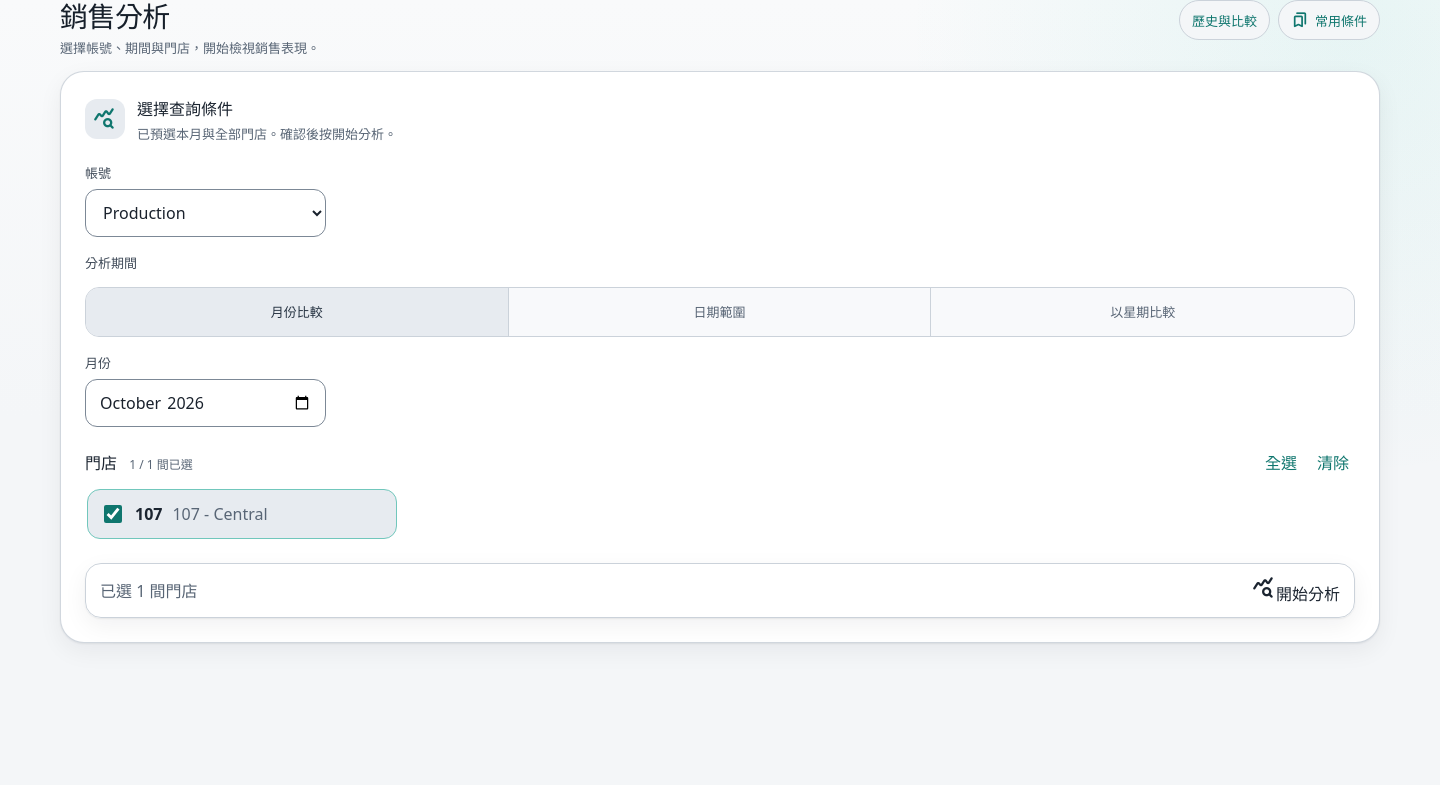
Test: saved analysis conditions › can discard staged conditions and keep the previous report and filters
Expected: the text "107 - Central" is shown, x1=172 y1=503 x2=268 y2=525
What coordinates should you click on to do the following:
click the text "開始分析"
I would click on:
 (1296, 590)
Its box is x1=1252 y1=576 x2=1340 y2=605.
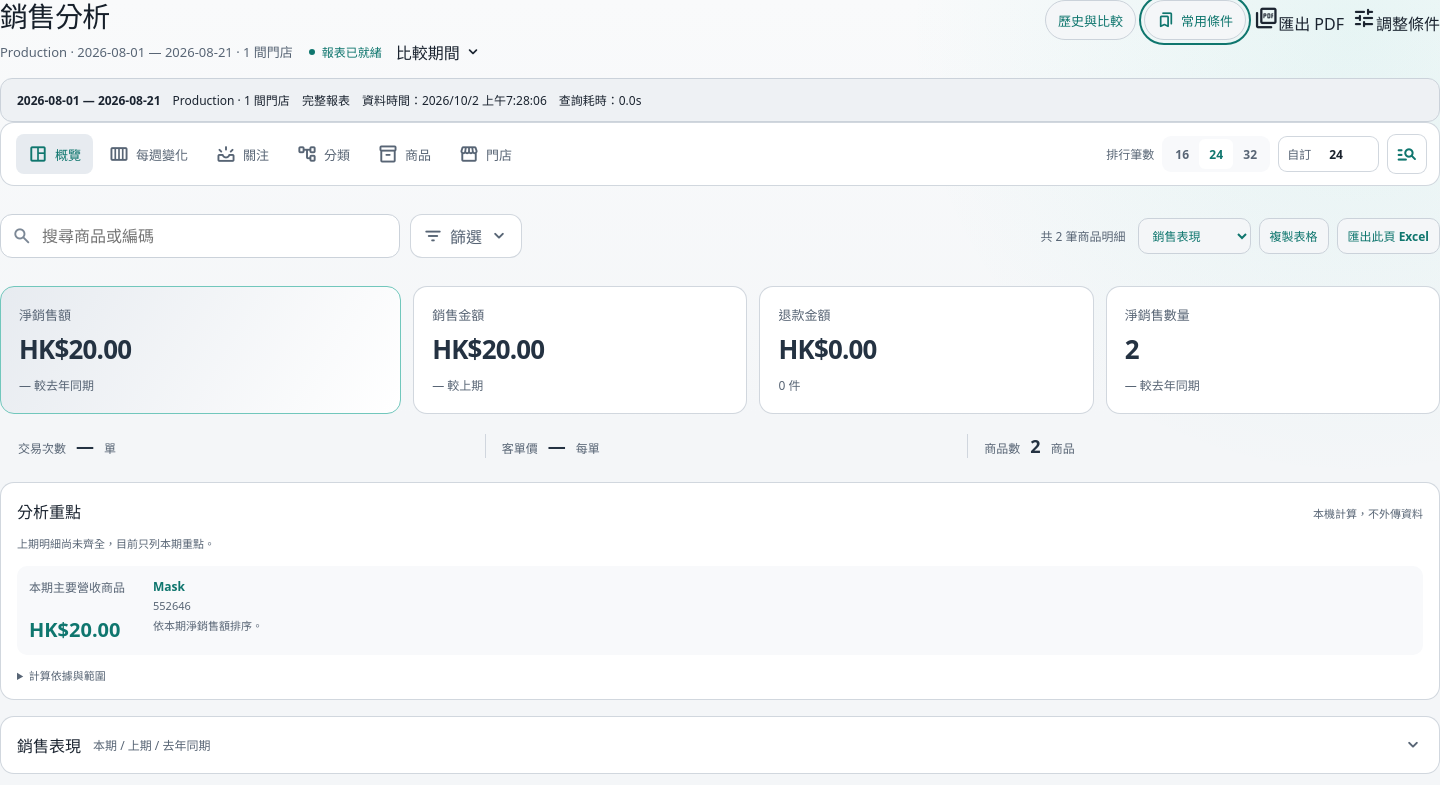
What coordinates should you click on to do the following:
click the button "常用條件"
I would click on:
 (1195, 20)
Its box is x1=1144 y1=0 x2=1246 y2=40.
(page scrolled)
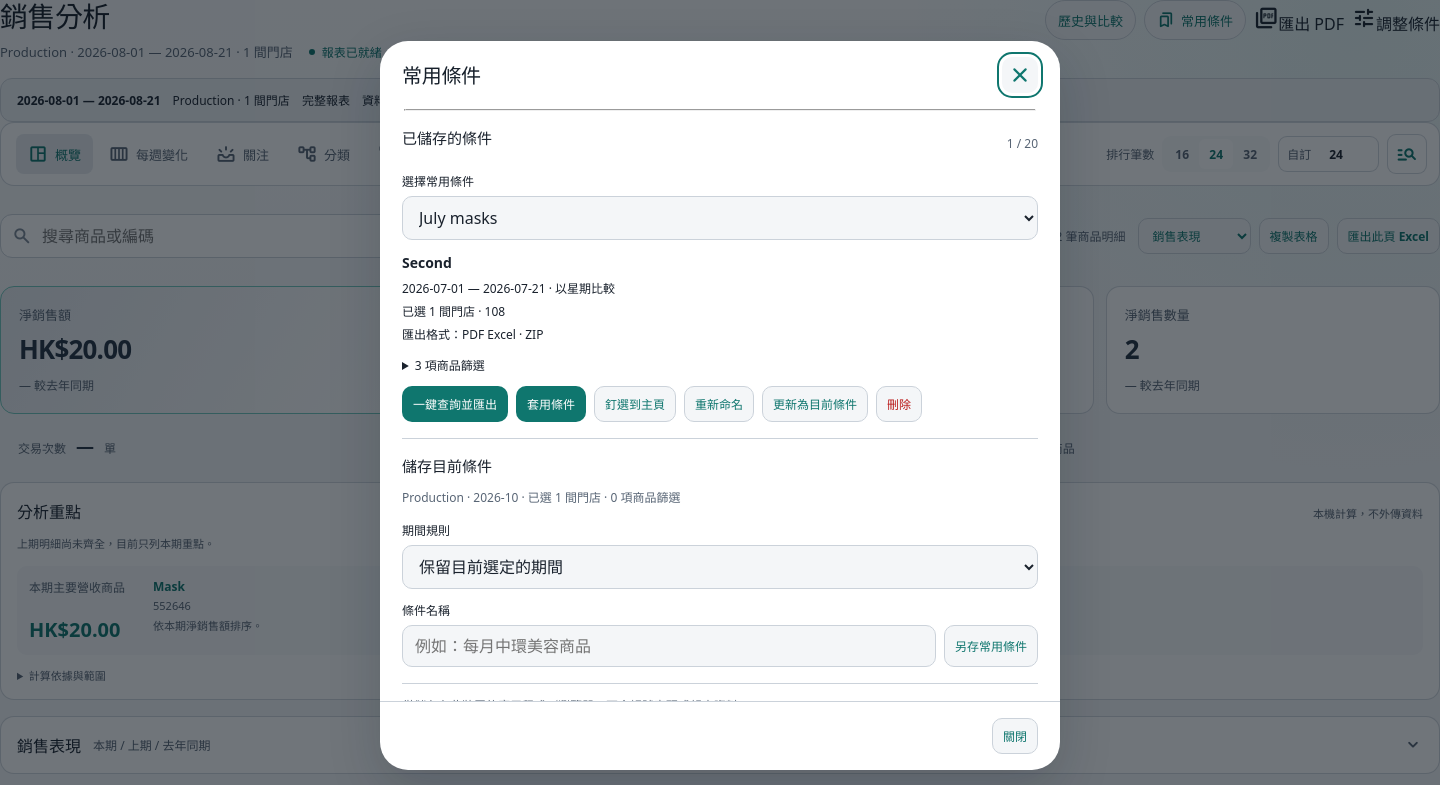
What coordinates should you click on to do the following:
click the button "套用條件"
I would click on:
 (551, 404)
Its box is x1=516 y1=386 x2=586 y2=422.
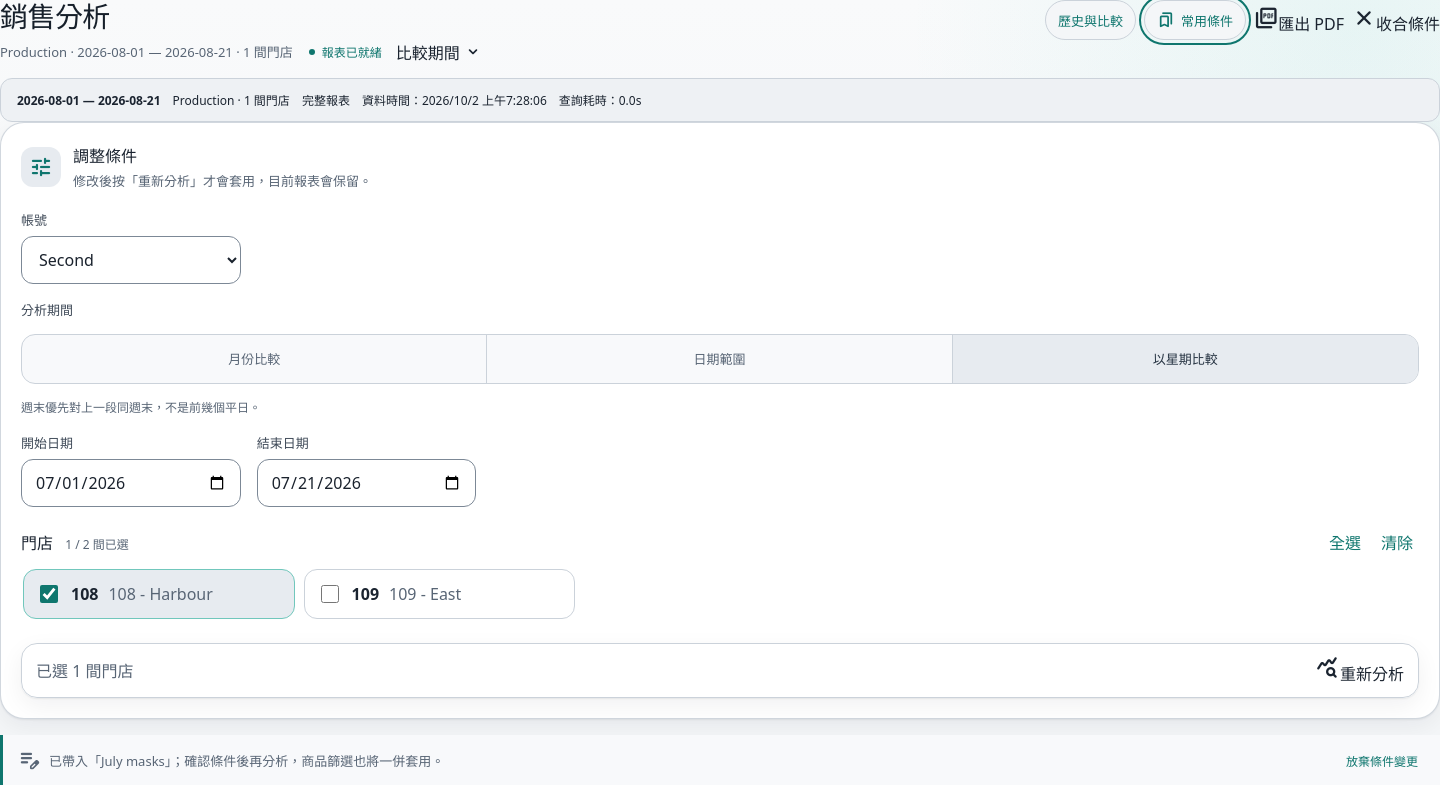
Expected: the text "已帶入「July masks」；確認條件後再分析，商品篩選也將一併套用。" is shown, x1=49 y1=751 x2=444 y2=770
Expected: the dialog is gone
What coordinates should you click on to do the following:
click the button "放棄條件變更"
I would click on:
 (1382, 761)
Its box is x1=1338 y1=745 x2=1426 y2=777.
(page scrolled)
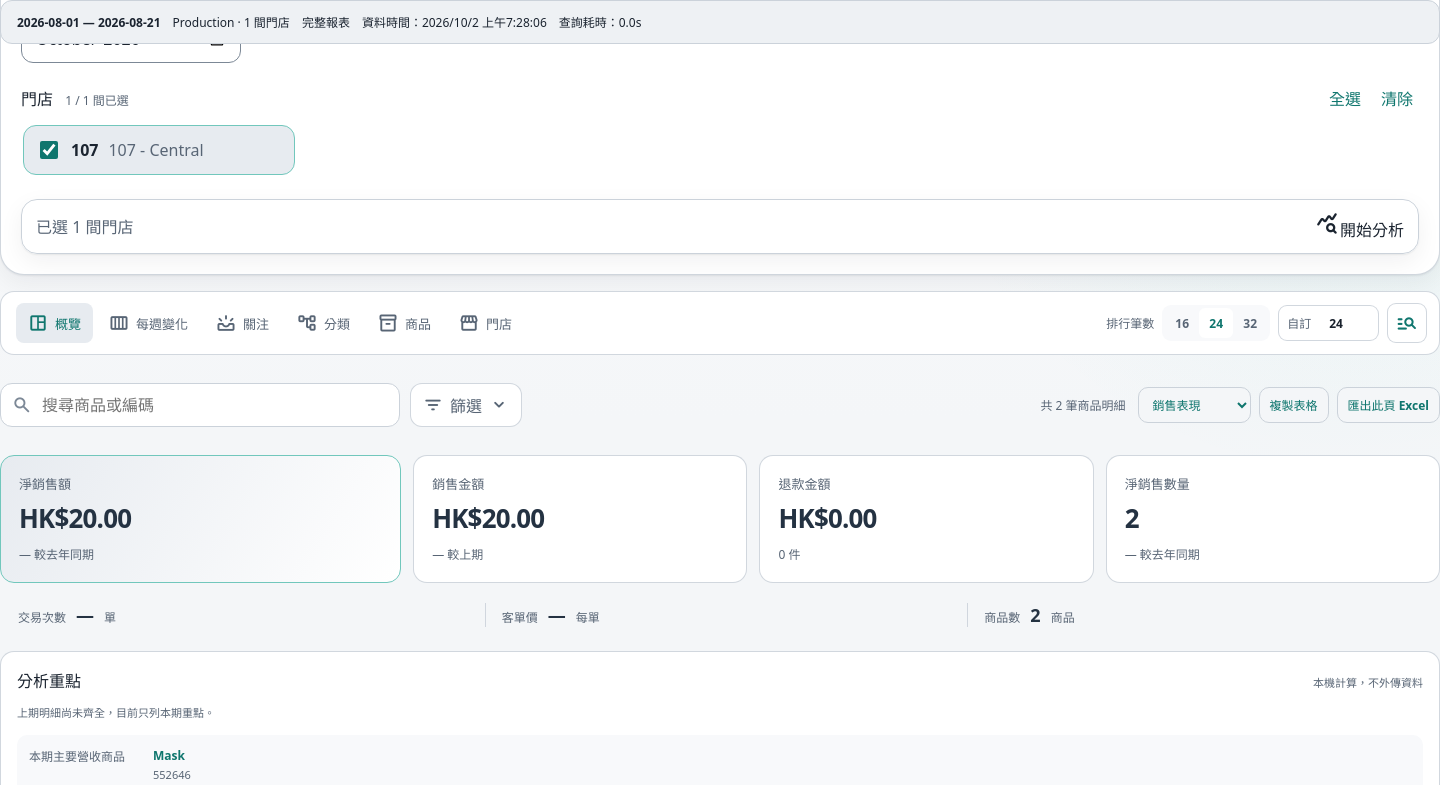
Expected: the text "已帶入" is gone
Expected: the field labelled "搜尋商品或編碼" is empty, x1=40 y1=393 x2=380 y2=417
